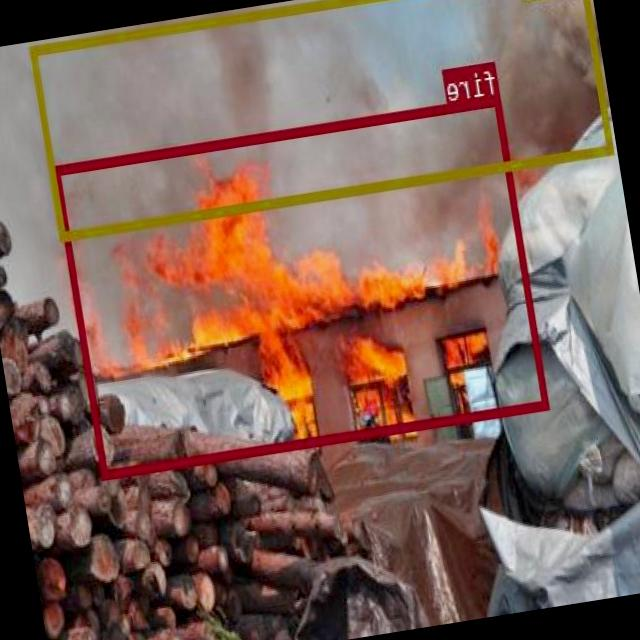fire: (53, 94, 550, 479)
smoke: (30, 0, 615, 240)
